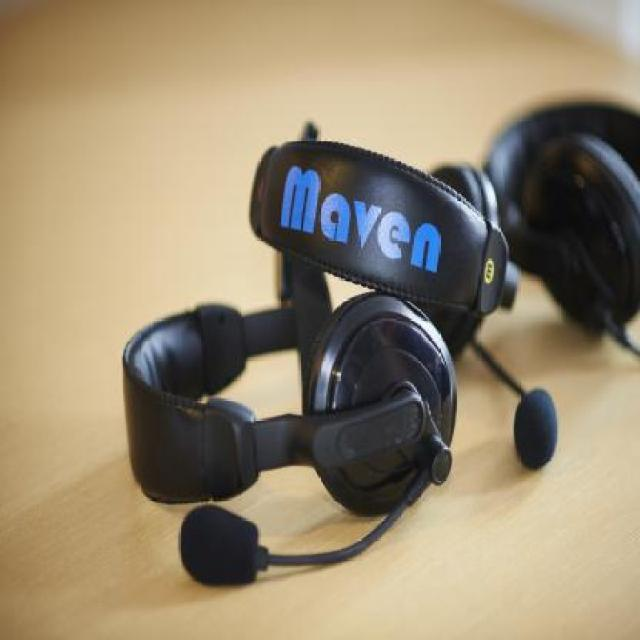earphone: (102, 247, 508, 553), (470, 60, 640, 282)
